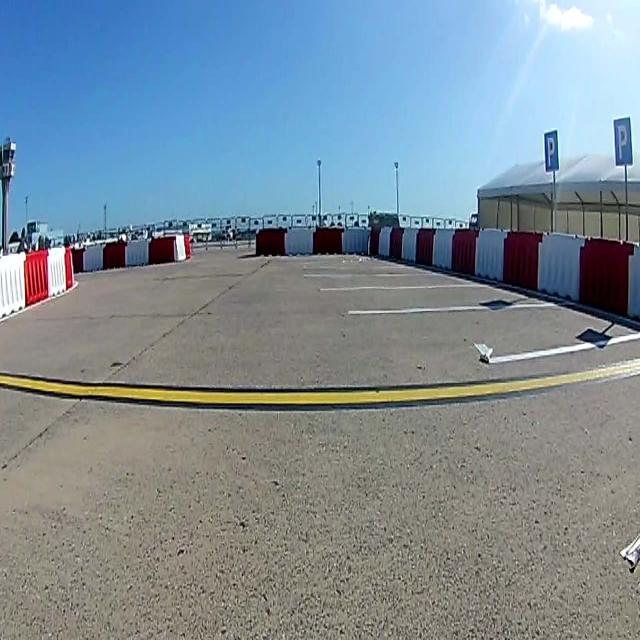park: (614, 118, 632, 166), (545, 129, 559, 171)
